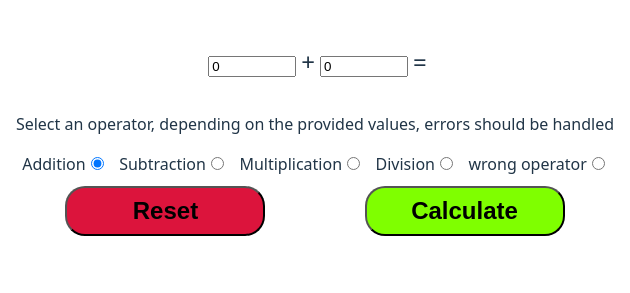
Scenario: CalculateForm Test › Substractions › with negative numbers › only second input is negative, shows positive output
Click the radio button with id "substraction": (217, 164) [211,157,224,170]
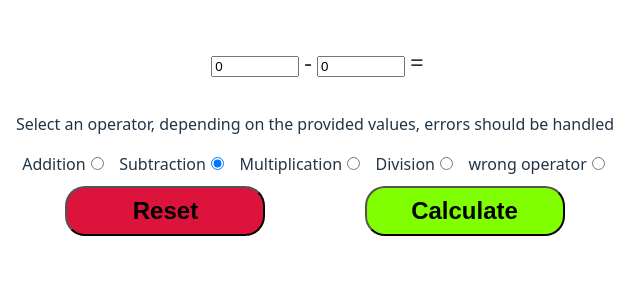
Replace the text in the number field with id "input1" with "3": (255, 66) [211,56,299,77]
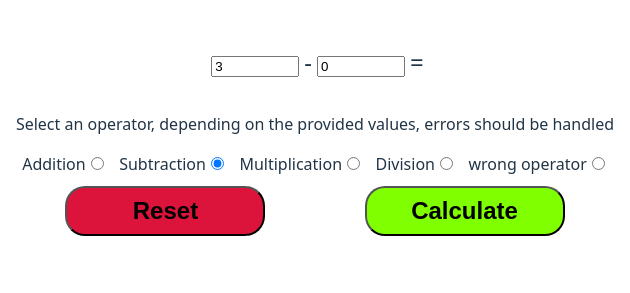
Replace the text in the number field with id "input2" with "-2": (361, 66) [317,56,405,77]
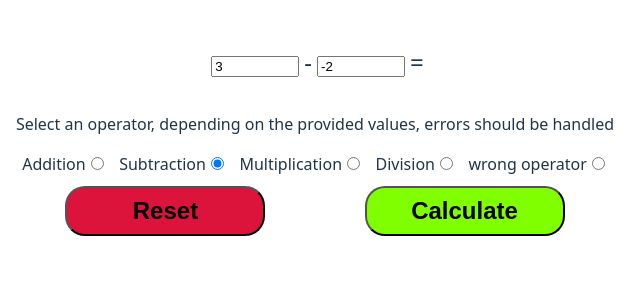
Click the button "Calculate": (464, 211) [364,186,564,236]
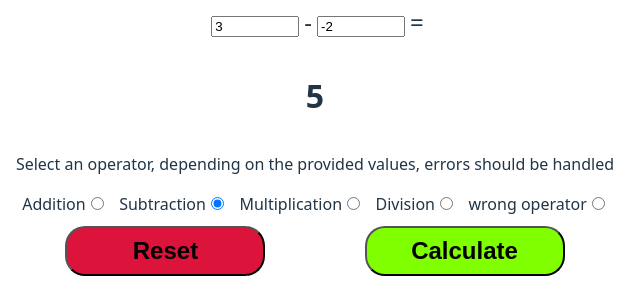
Now the text with id "result" reads "5", box [306,74,324,117]
